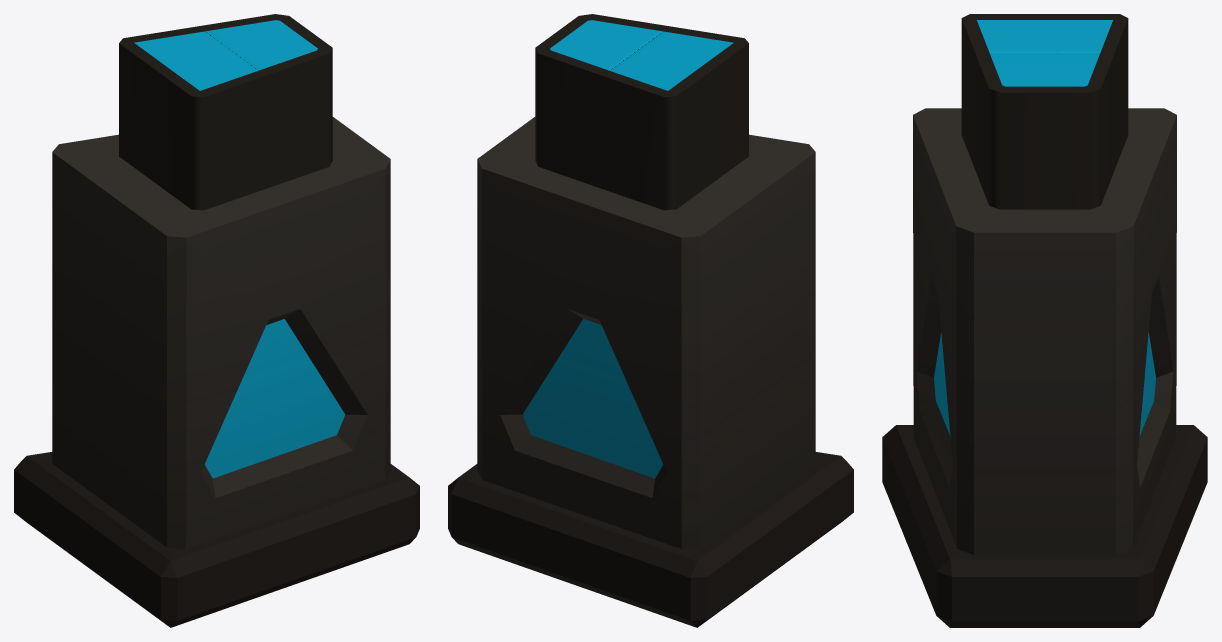
File: Pistol2_Magazine.fbx
The picture shows the model from 3 angles, left to right: view 1: azimuth 30°, elevation 25°; view 2: azimuth 150°, elevation 25°; view 3: azimuth 270°, elevation 25°; orthographic projection. The views are drawn at different scales.
Parts seen in each view (by area): view 1: Pistol2_Magazine; view 2: Pistol2_Magazine; view 3: Pistol2_Magazine.
Part boxes in pixels (x1,y1,x2,y2): Pistol2_Magazine: (14,14,419,627); Pistol2_Magazine: (448,14,853,627); Pistol2_Magazine: (882,14,1207,627).
Size of the model in its own units: 5.32 by 8.69 by 5.04.
